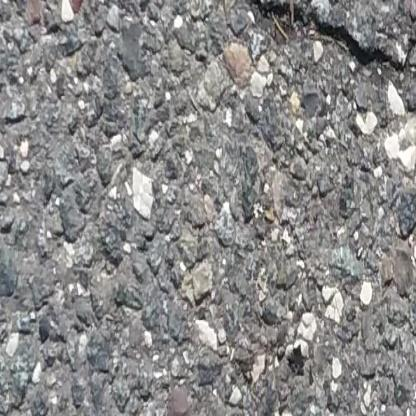Cracks: (236, 0, 416, 80)
